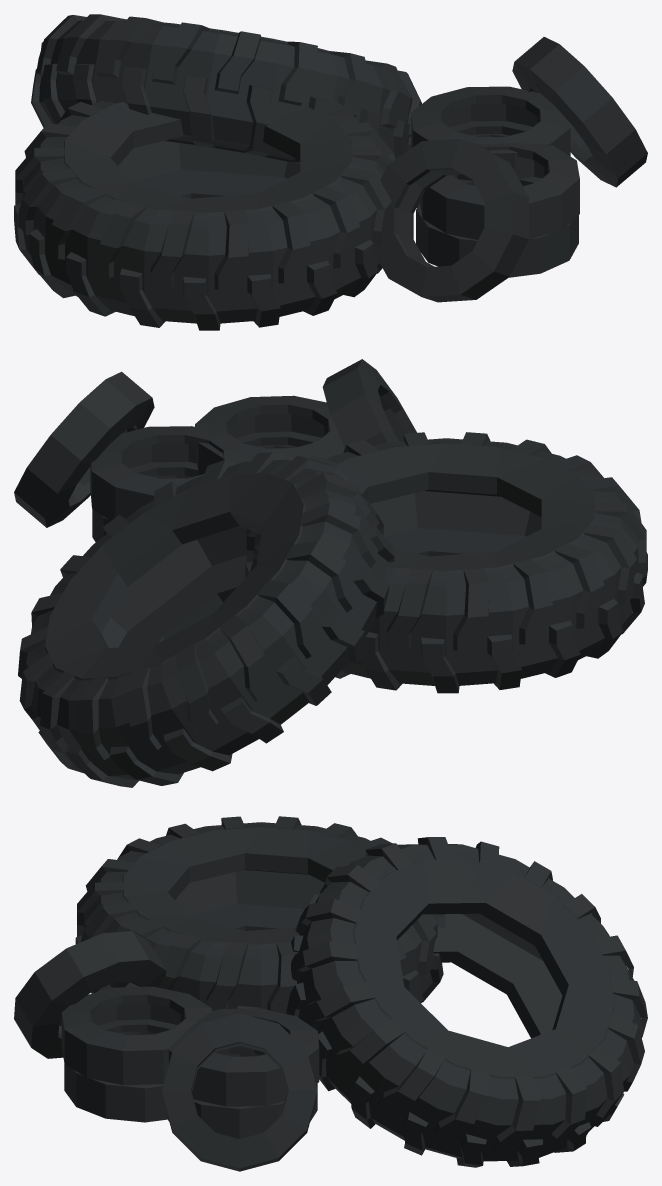
Rendered from tires.gltf.
3 views of the same model, one above another, from view 1: azimuth 30°, elevation 25°; view 2: azimuth 150°, elevation 25°; view 3: azimuth 270°, elevation 25° (orthographic). The views are drawn at different scales.
Visible parts, largest first — view 1: SM_Prop_Tractor_Tire_01, SM_Prop_Tractor_Tire_01.001, SM_Prop_TireStack_01.001, SM_Prop_TireStack_01; view 2: SM_Prop_Tractor_Tire_01.001, SM_Prop_Tractor_Tire_01, SM_Prop_TireStack_01, SM_Prop_TireStack_01.001; view 3: SM_Prop_Tractor_Tire_01.001, SM_Prop_Tractor_Tire_01, SM_Prop_TireStack_01.001, SM_Prop_TireStack_01.
Boxes of the visible parts, x1=… form: SM_Prop_Tractor_Tire_01: x1=14, y1=101, x2=394, y2=330; SM_Prop_Tractor_Tire_01.001: x1=31, y1=14, x2=421, y2=164; SM_Prop_TireStack_01.001: x1=377, y1=138, x2=579, y2=302; SM_Prop_TireStack_01: x1=411, y1=37, x2=647, y2=207; SM_Prop_Tractor_Tire_01.001: x1=18, y1=452, x2=394, y2=787; SM_Prop_Tractor_Tire_01: x1=245, y1=432, x2=647, y2=693; SM_Prop_TireStack_01: x1=14, y1=371, x2=250, y2=542; SM_Prop_TireStack_01.001: x1=195, y1=359, x2=416, y2=475; SM_Prop_Tractor_Tire_01.001: x1=286, y1=837, x2=647, y2=1167; SM_Prop_Tractor_Tire_01: x1=75, y1=816, x2=445, y2=1013; SM_Prop_TireStack_01.001: x1=14, y1=931, x2=211, y2=1122; SM_Prop_TireStack_01: x1=162, y1=1008, x2=319, y2=1171.
Bounding box in the file's own units: 2.97 × 1.25 × 2.95.
Materials: 3 (3 with a texture image).
